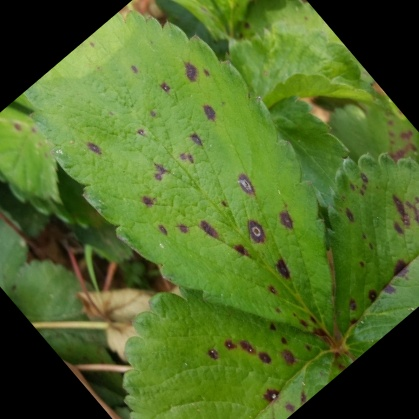Leaf_Spot: (121, 0, 330, 388), (0, 239, 329, 418), (221, 258, 418, 418), (235, 40, 418, 171), (233, 0, 418, 92), (55, 0, 133, 162), (351, 163, 418, 323)
